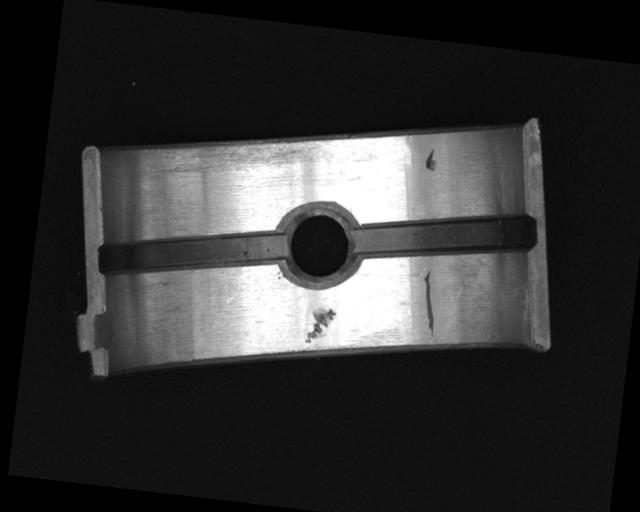bruise: (301, 304, 338, 346), (424, 147, 439, 173)
gap: (96, 210, 290, 294), (352, 197, 537, 274)
hole: (275, 196, 364, 288)
nick: (418, 268, 442, 339)
scratch: (163, 121, 326, 190)
